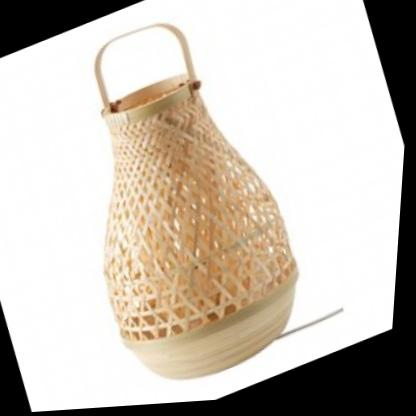Lamp: (2, 0, 352, 415)
